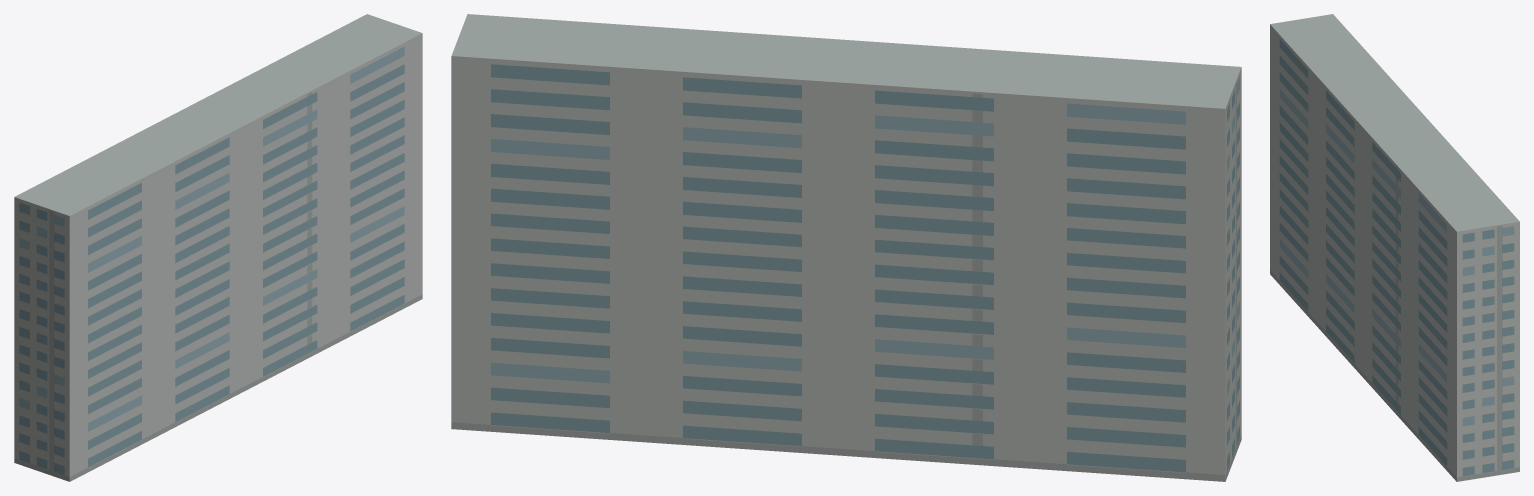
File: residential-12516742-d3fc-4fe6-a7de-ded568c23248.glb
3 renders of one model, left to right at view 1: azimuth 30°, elevation 25°; view 2: azimuth 150°, elevation 25°; view 3: azimuth 270°, elevation 25°, orthographic. The views are drawn at different scales.
Visible parts, largest first — view 1: residential-12516742-d3fc-4fe6-a7de-ded568c23248.tmp; view 2: residential-12516742-d3fc-4fe6-a7de-ded568c23248.tmp; view 3: residential-12516742-d3fc-4fe6-a7de-ded568c23248.tmp.
Boxes of the visible parts, x1,y1,x2,y2 form: residential-12516742-d3fc-4fe6-a7de-ded568c23248.tmp: (14,14,422,481); residential-12516742-d3fc-4fe6-a7de-ded568c23248.tmp: (451,14,1241,481); residential-12516742-d3fc-4fe6-a7de-ded568c23248.tmp: (1270,14,1519,481).
Bounding box in the file's own units: 85.42 × 45.75 × 41.42.
